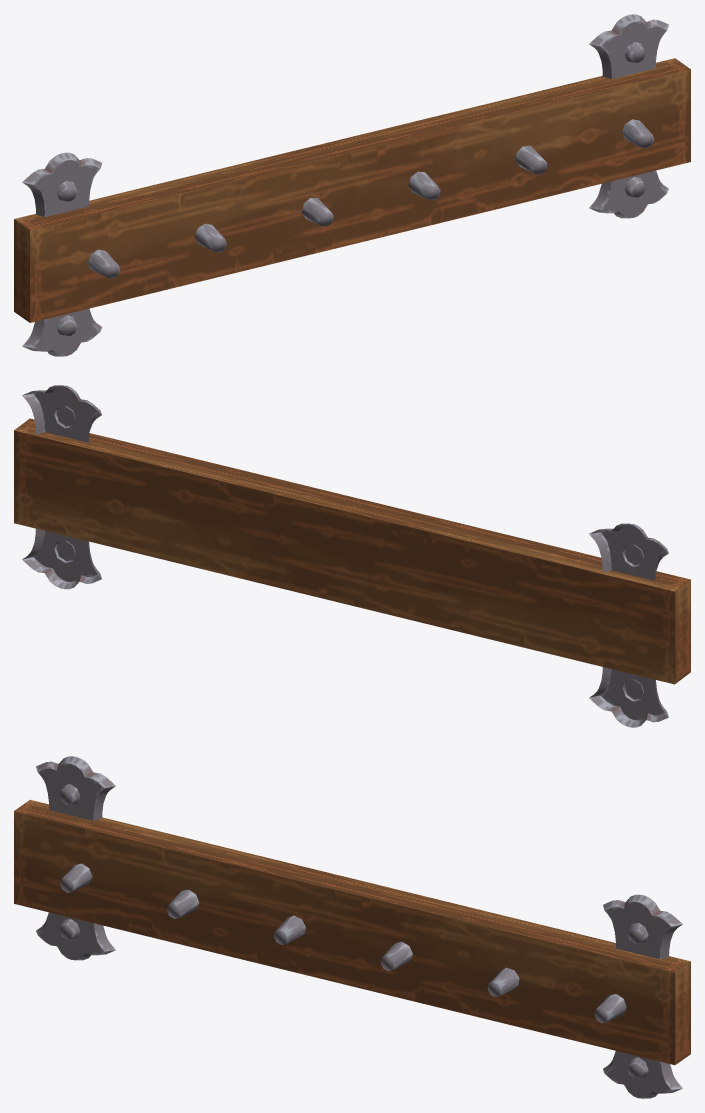
Rendered from peg_rack.glb.
3 renders of one model, top to bottom at view 1: azimuth 30°, elevation 25°; view 2: azimuth 150°, elevation 25°; view 3: azimuth 330°, elevation 25°, orthographic.
Parts seen in each view (by area): view 1: Peg_Rack; view 2: Peg_Rack; view 3: Peg_Rack.
Boxes of the visible parts, left/top/right/bottom form: Peg_Rack: left=14, top=14, right=690, bottom=356; Peg_Rack: left=14, top=385, right=690, bottom=727; Peg_Rack: left=14, top=756, right=690, bottom=1098.
Bounding box in the file's own units: 1.18 × 0.3479 × 0.0957.
Materials: 2 (2 with a texture image).
